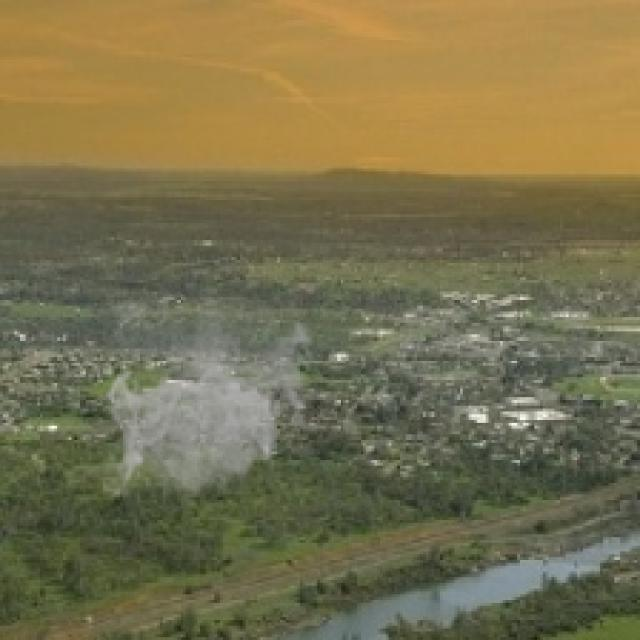Smoke: (103, 297, 320, 509)
